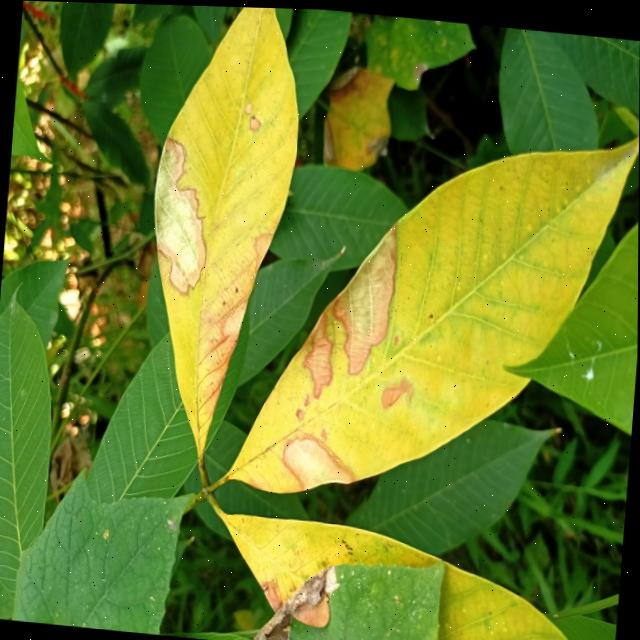Leaf-Blight: (327, 214, 399, 376), (146, 134, 214, 294), (280, 432, 359, 493), (300, 307, 336, 398), (220, 294, 247, 341), (379, 372, 413, 409), (248, 229, 273, 274), (258, 576, 284, 611), (247, 113, 260, 131), (295, 406, 304, 421), (243, 101, 251, 113)
